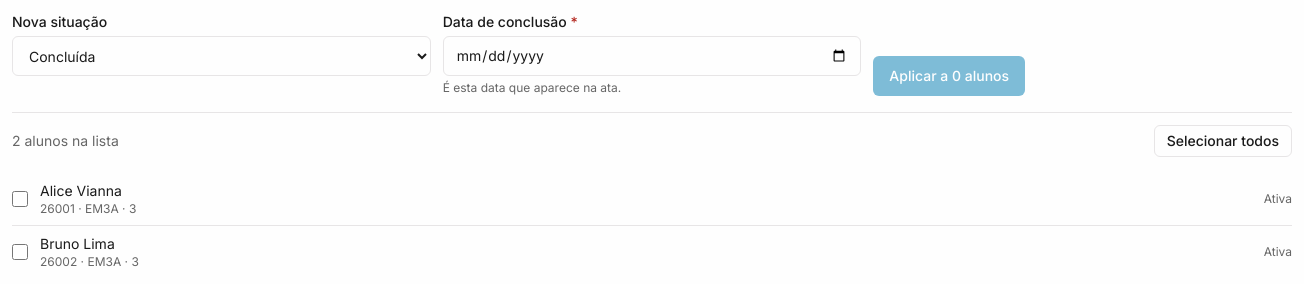
Test case: mudança de situação em lote › matrícula ativa não pede data
Select "Ativa" in the dropdown labelled "Nova situação" at [221, 56], box x1=12 y1=36 x2=431 y2=76
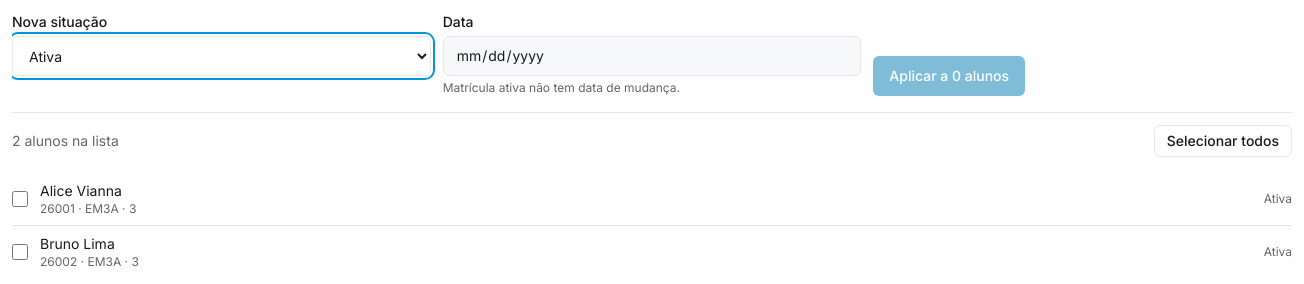
expect the date field labelled "Data" is disabled: met, box x1=443 y1=36 x2=861 y2=76
